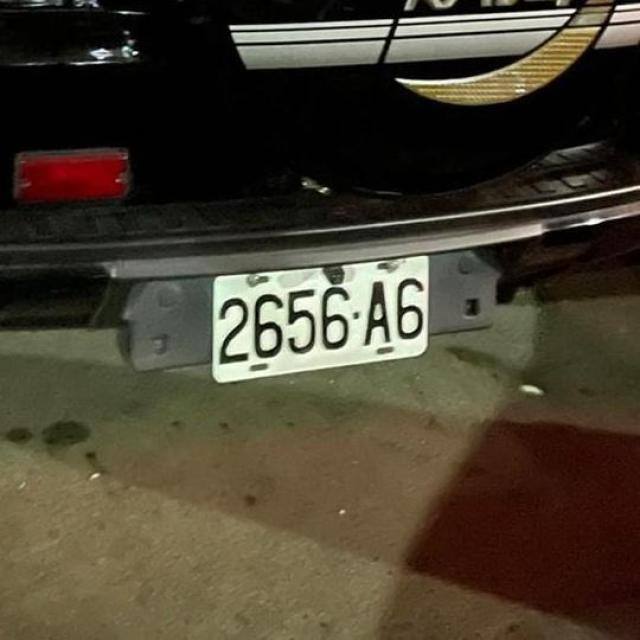W: (197, 239, 441, 397)
